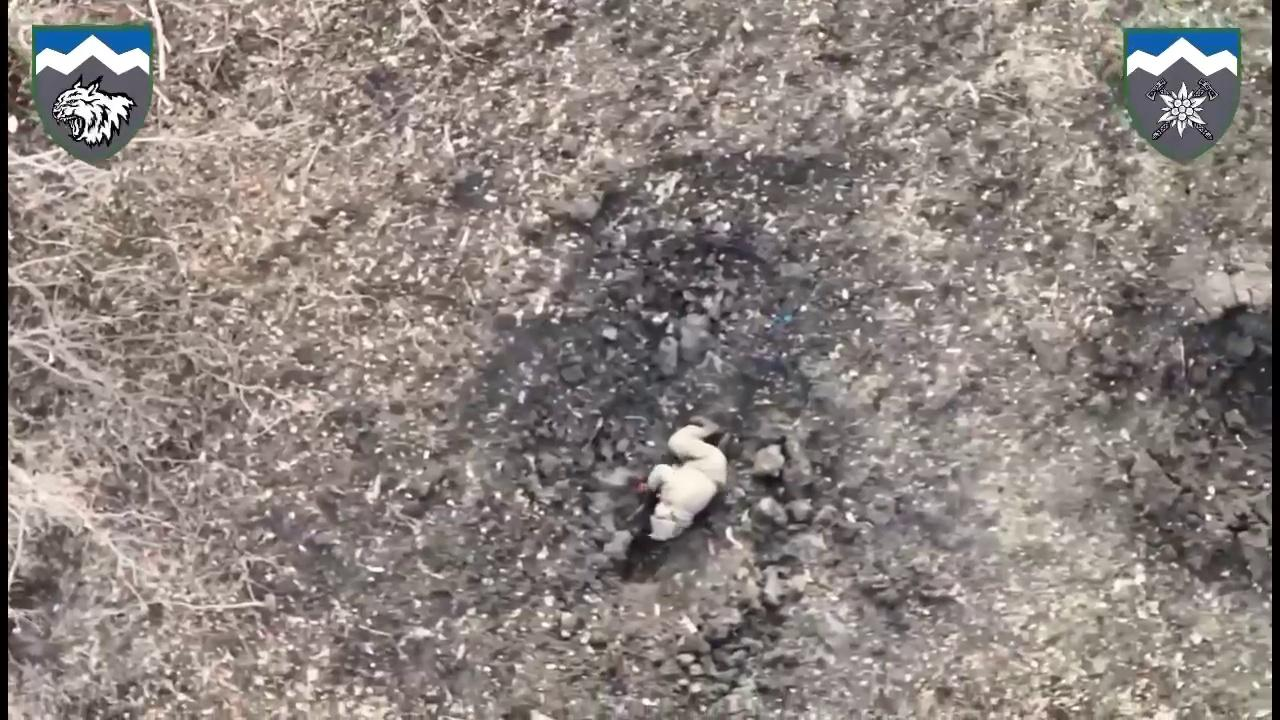person: (636, 415, 729, 540)
